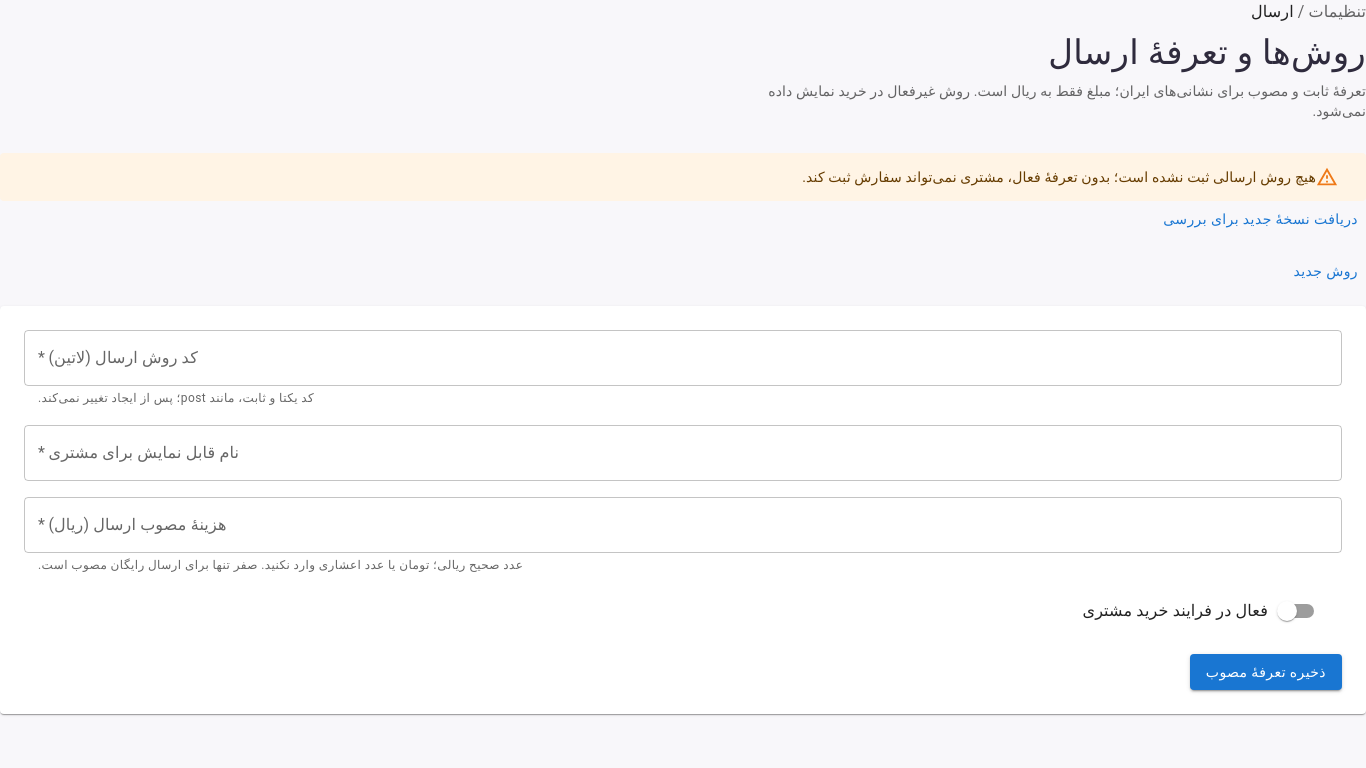
Test: Admin approved shipping tariffs › rejects floating point fees before sending a request
The image size is (1366, 768).
Expected: the text "هیچ روش ارسالی ثبت نشده است" is shown, [802,169,1316,185]
Type "post" into the field labelled "کد روش ارسال (لاتین) *" at (683, 358), box [24,330,1342,386]
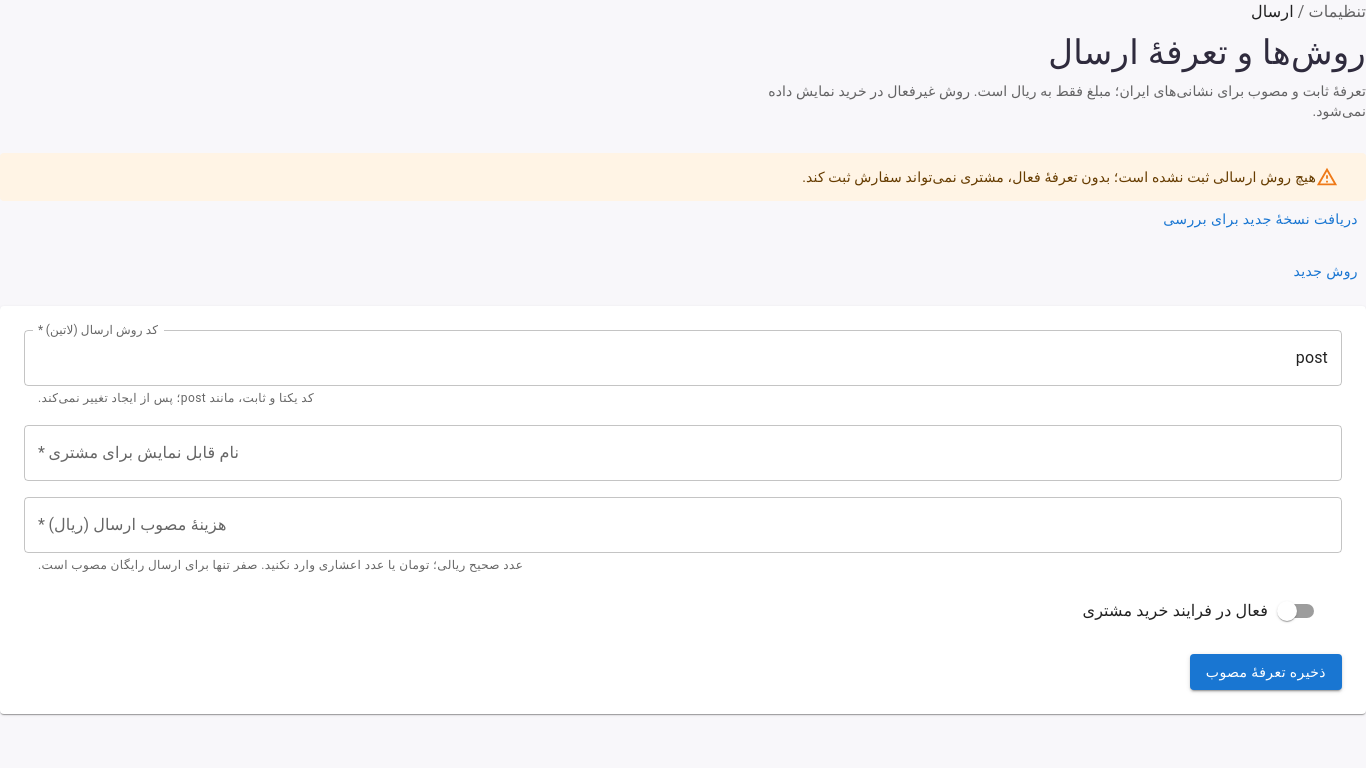
Type "پست" into the field labelled "نام قابل نمایش برای مشتری *" at (683, 453), box [24,425,1342,481]
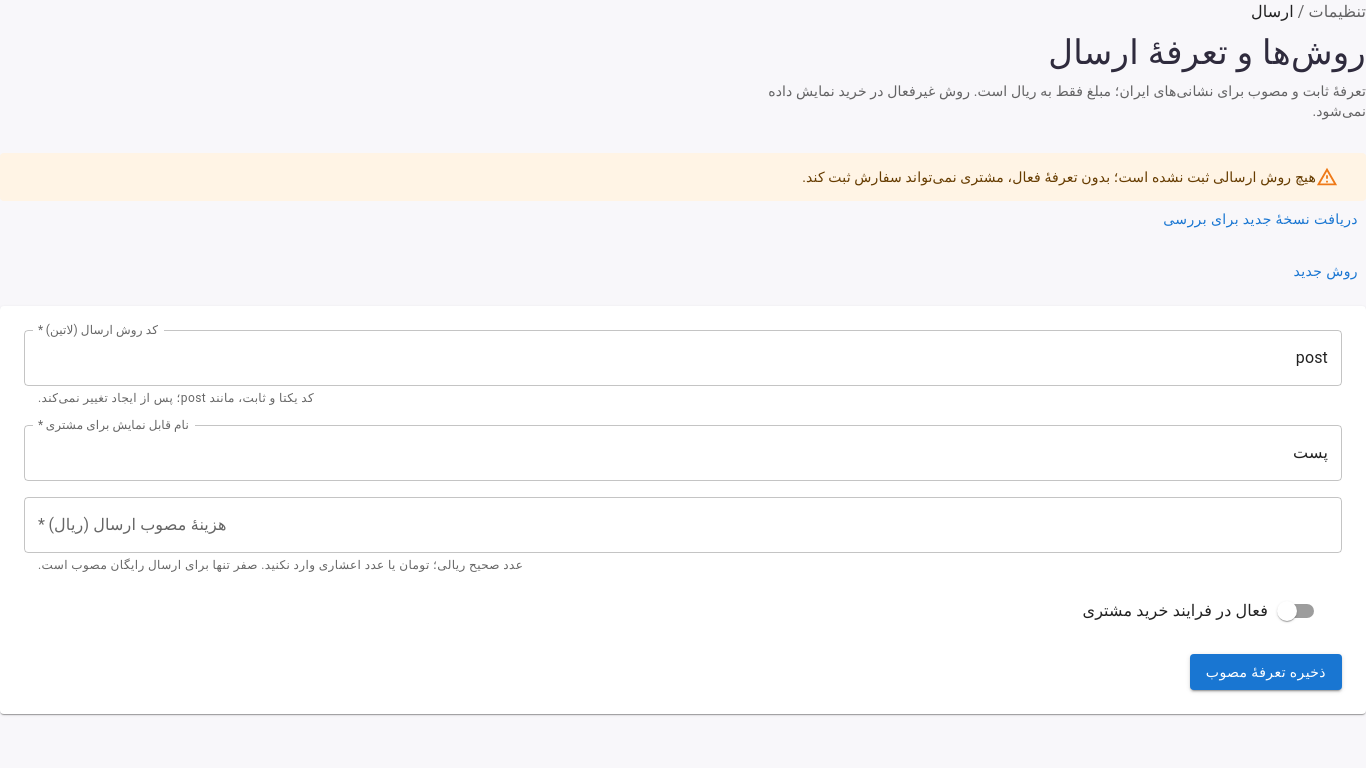
Type "۵۰۰۰۰" into the field labelled "هزینهٔ مصوب ارسال (ریال) *" at (683, 525), box [24,497,1342,553]
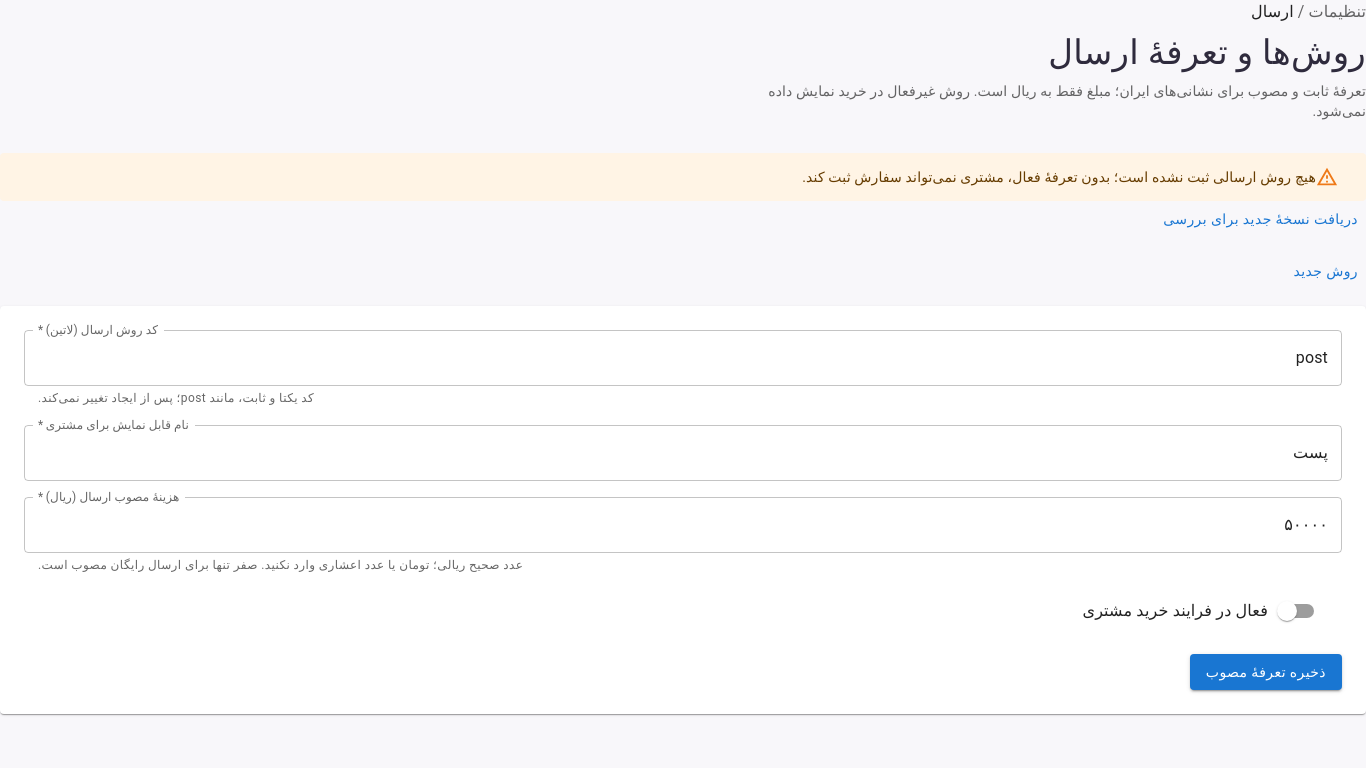
Replace the text in the field labelled "هزینهٔ مصوب ارسال (ریال) *" with "1.5" at (683, 525), box [24,497,1342,553]
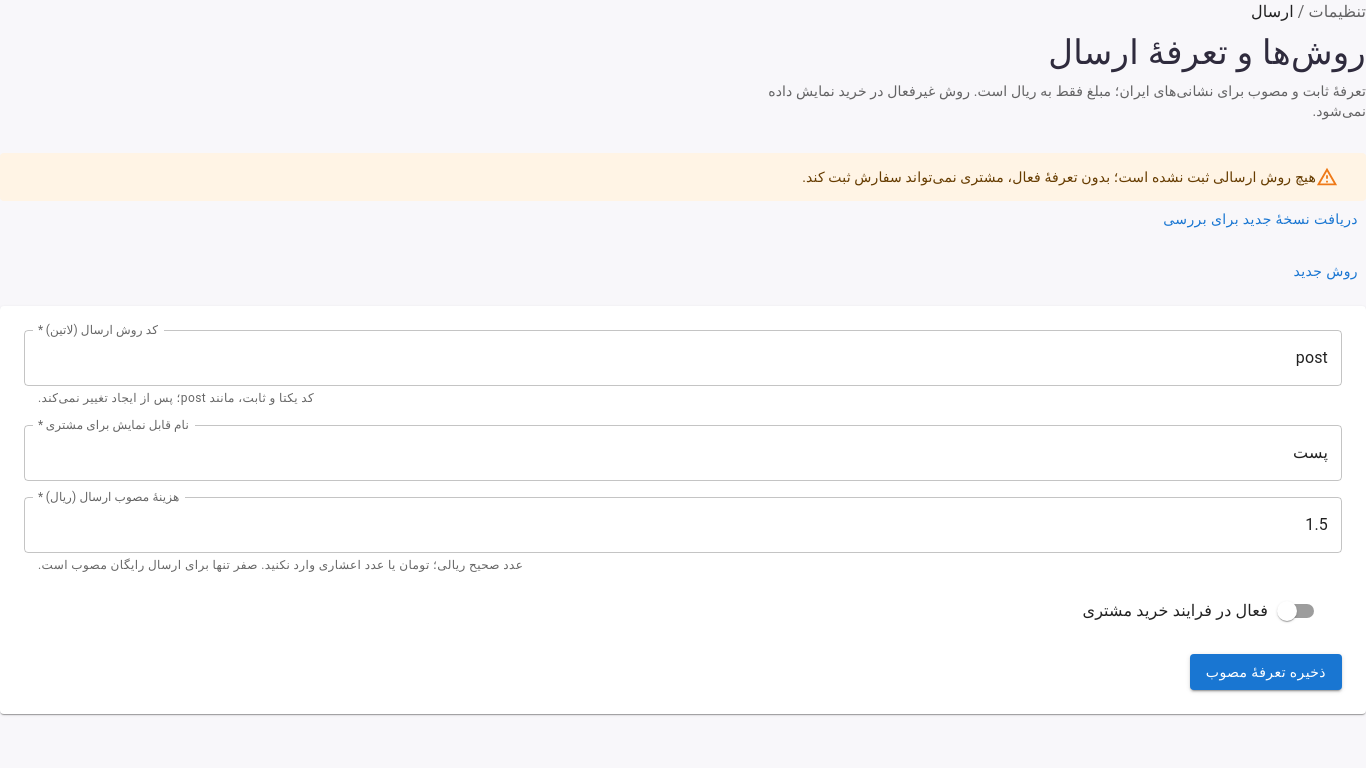
Click the button "ذخیره تعرفهٔ مصوب" at (1266, 672), box [1190,654,1342,690]
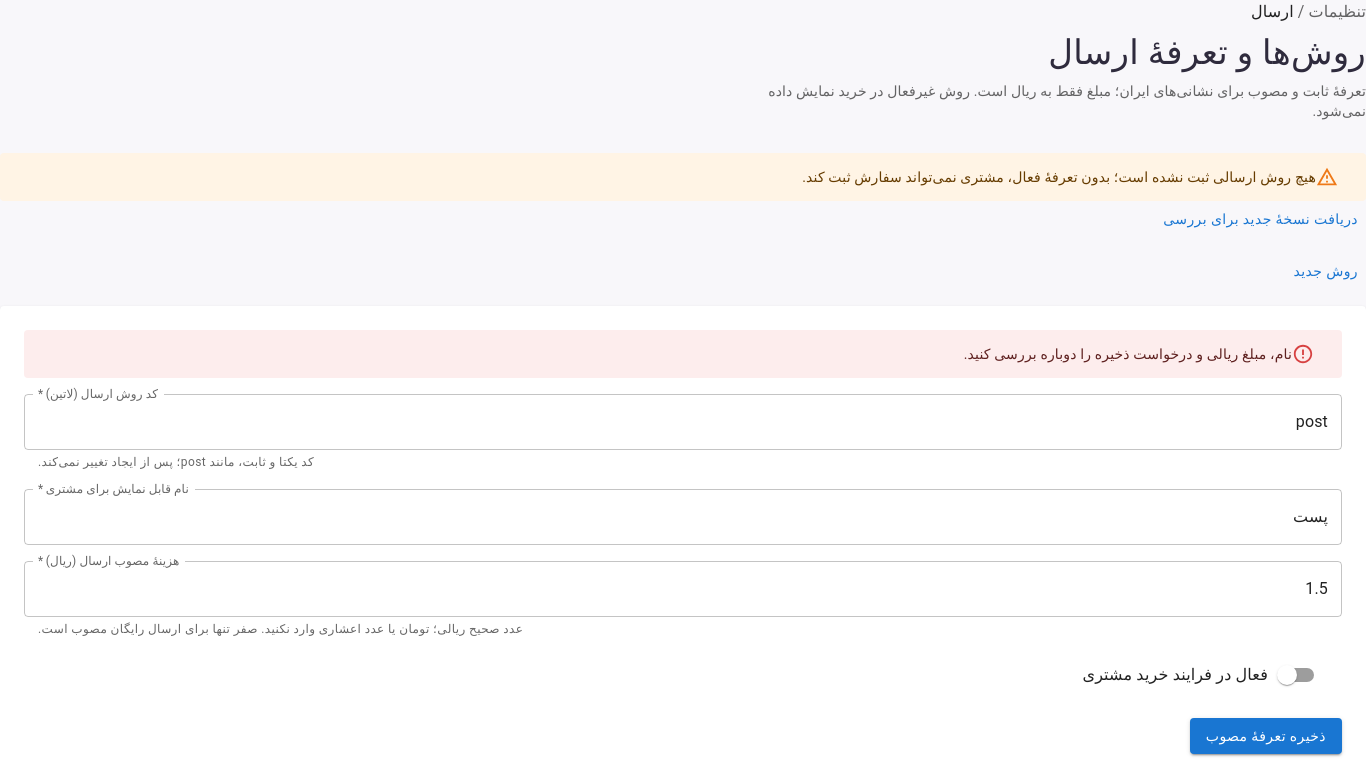
Expected: the text "نام، مبلغ ریالی و درخواست ذخیره را دوباره بررسی کنید." is shown, [964,346,1292,362]
